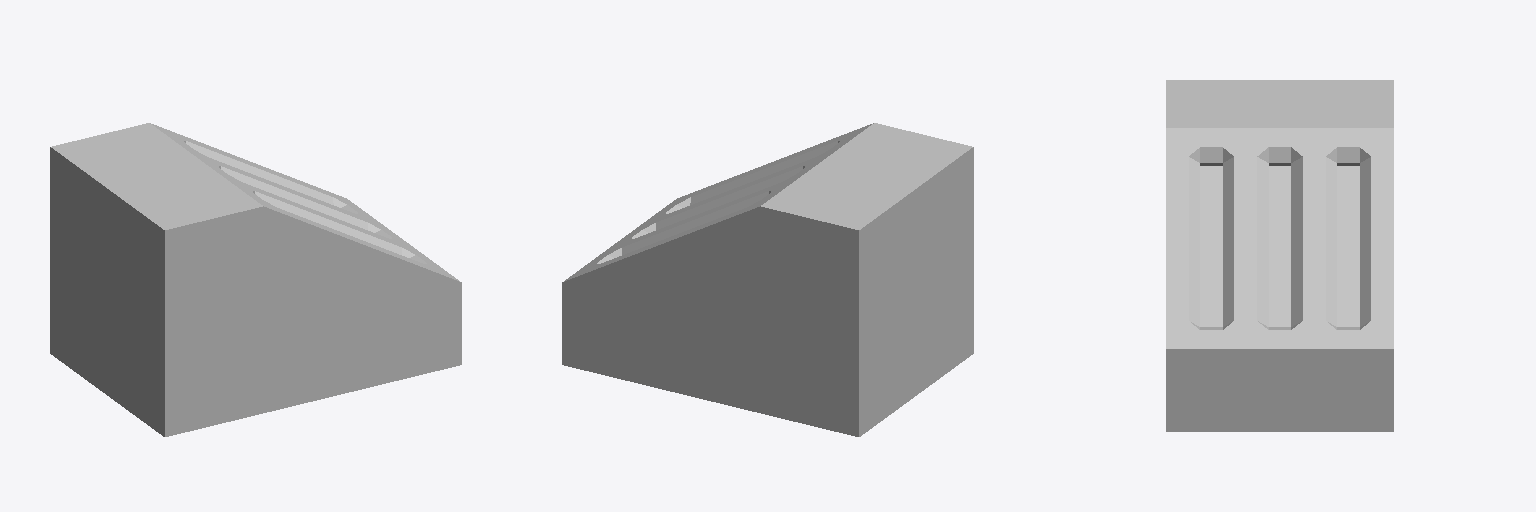
File: Spacestation_Structure_Fuselage_Straight_Vented.obj
3 views of the same model, side by side, from view 1: azimuth 30°, elevation 25°; view 2: azimuth 150°, elevation 25°; view 3: azimuth 270°, elevation 25° (orthographic).
Visible parts, largest first — view 1: object2; view 2: object2; view 3: object2, object1.
Boxes of the visible parts, box(x1,y1,x2,y2) form: object2: box(50, 123, 461, 436); object2: box(562, 123, 973, 436); object2: box(1166, 80, 1393, 431); object1: box(1200, 166, 1359, 326).
Size of the model in its own units: 1.5 by 1 by 1.